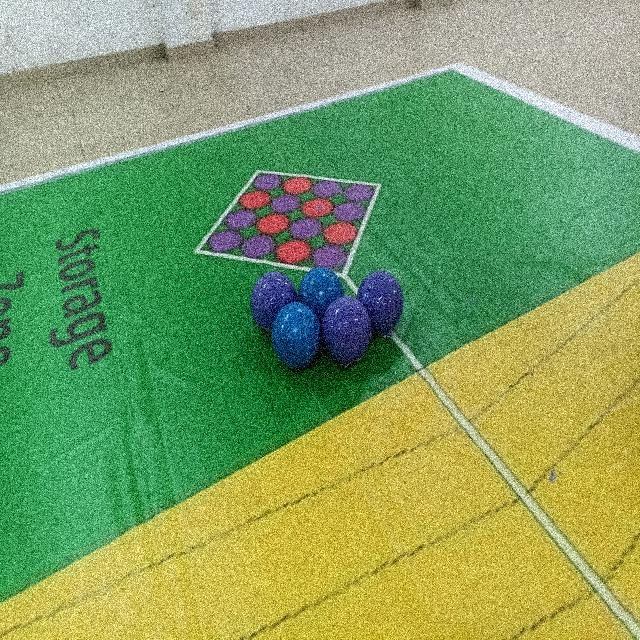blue_ball: (273, 306, 324, 369), (297, 262, 346, 303), (434, 284, 453, 289)
purple_ball: (326, 292, 374, 368), (248, 265, 295, 328), (359, 264, 405, 324)
